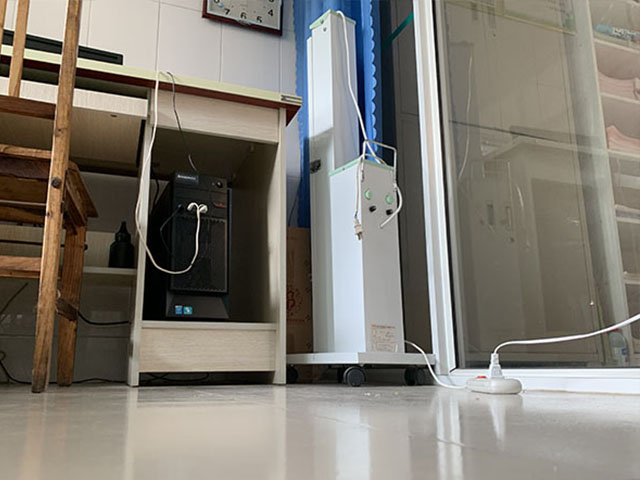stool: (1, 1, 92, 393)
table: (1, 58, 297, 387)
wire: (411, 334, 591, 398), (4, 373, 162, 387)
